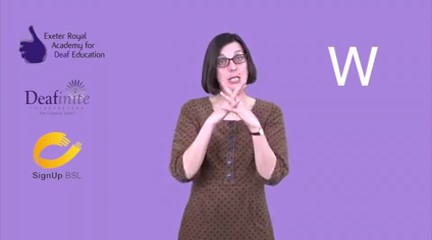W: (201, 80, 264, 130)
